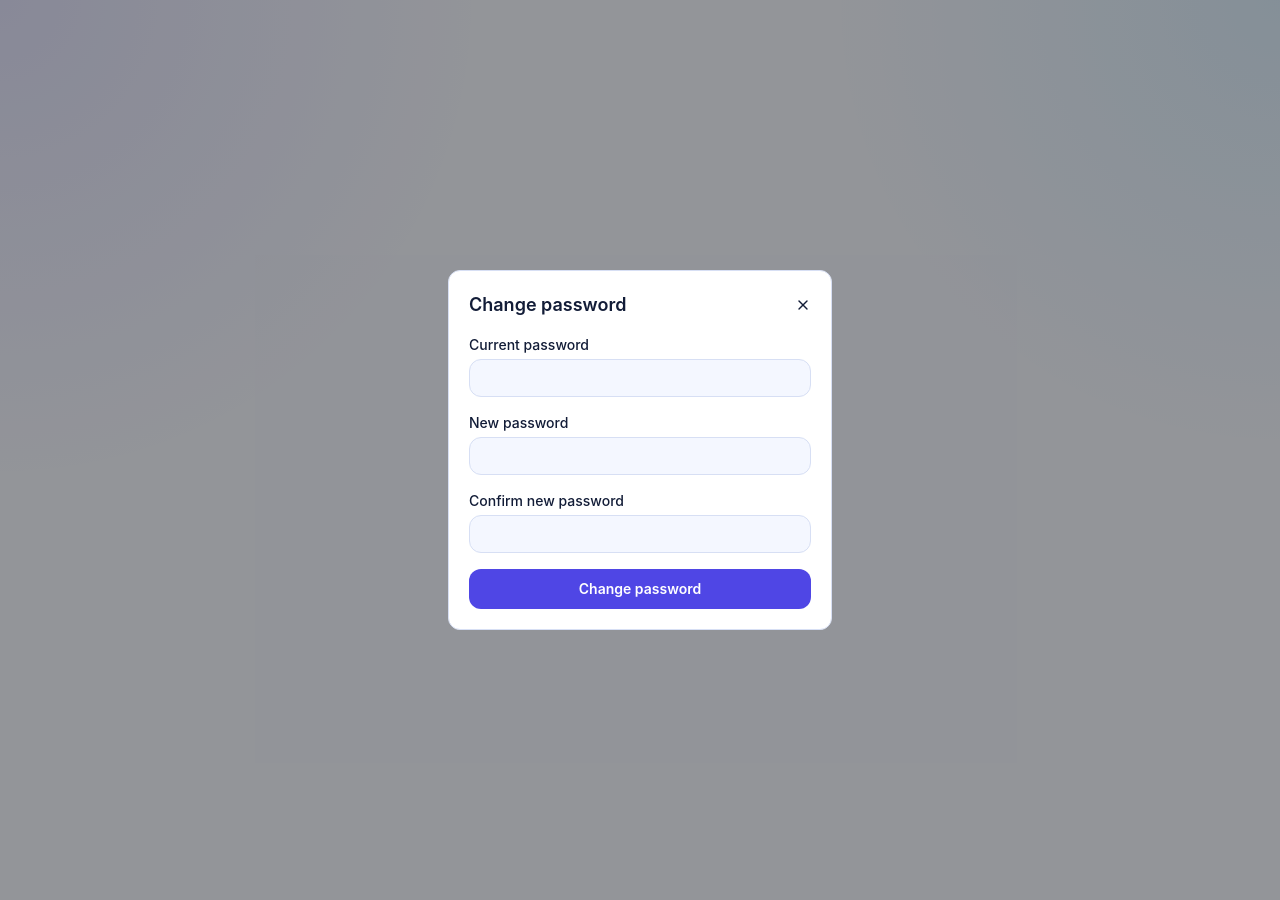
ChangePasswordModal › blocks submit when the new password is too weak
In the password field labelled "Current password": (640, 378) [469, 359, 811, 397], type "OldPass123"
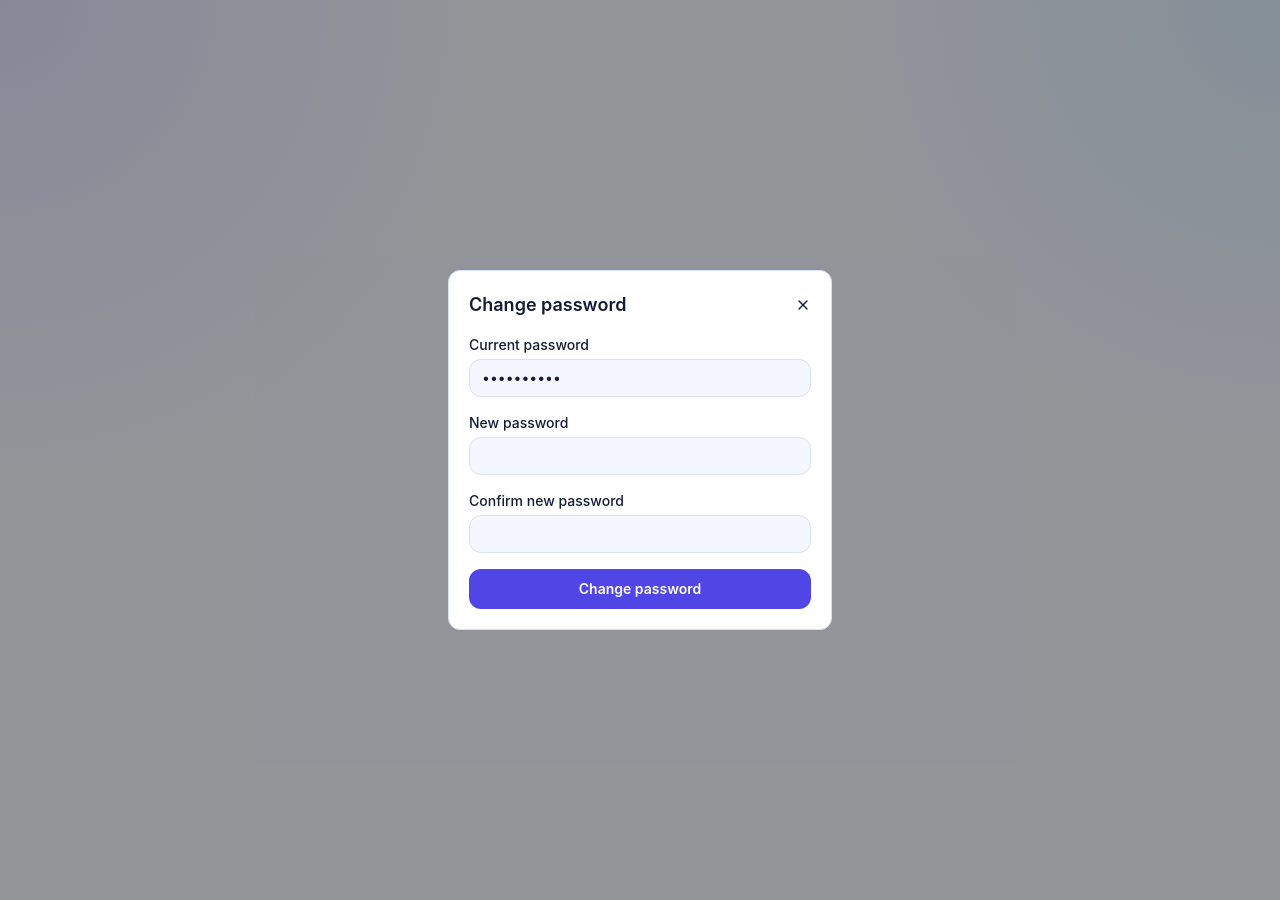
In the password field labelled "New password": (640, 456) [469, 437, 811, 475], type "weak"
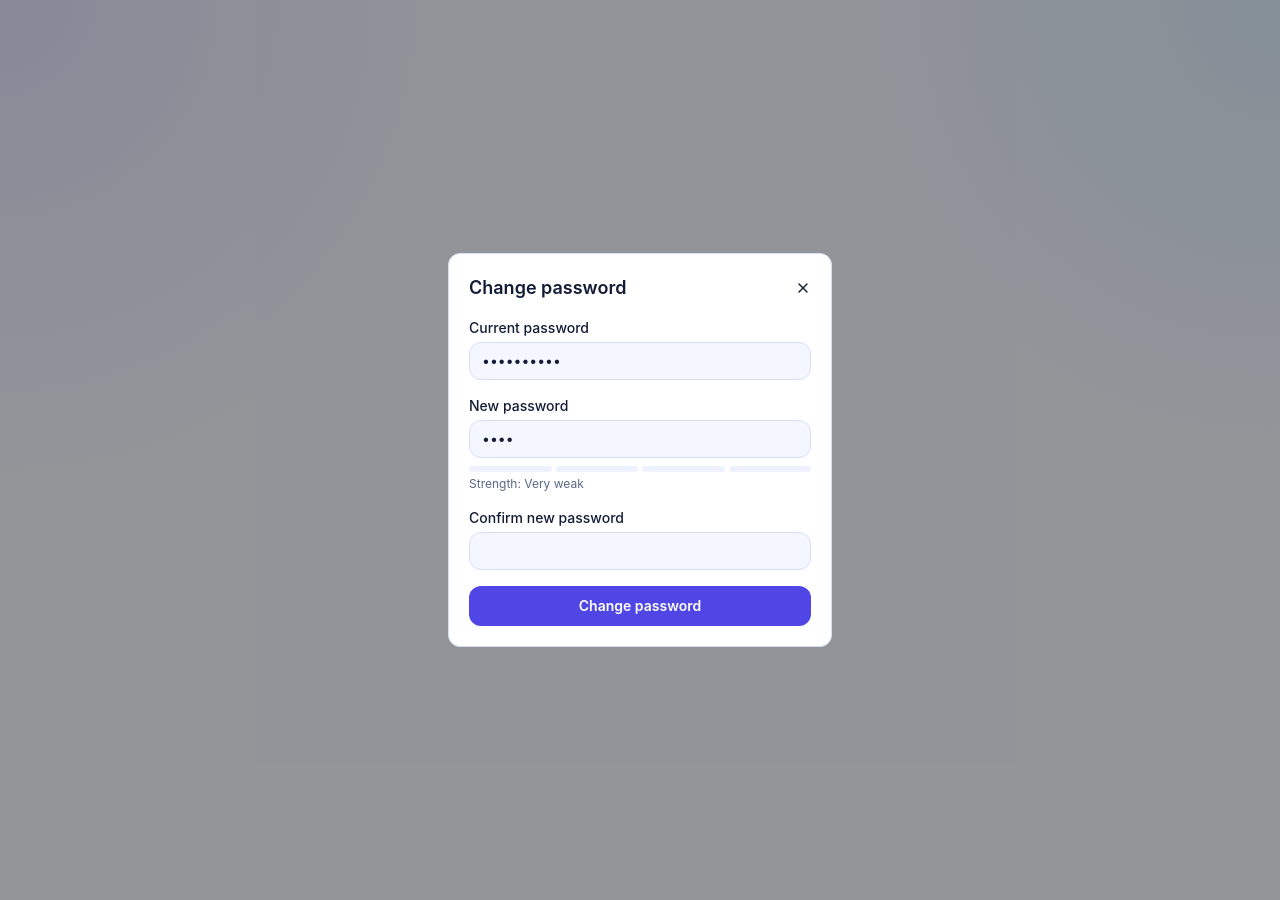
In the password field labelled "Confirm new password": (640, 551) [469, 532, 811, 570], type "weak"
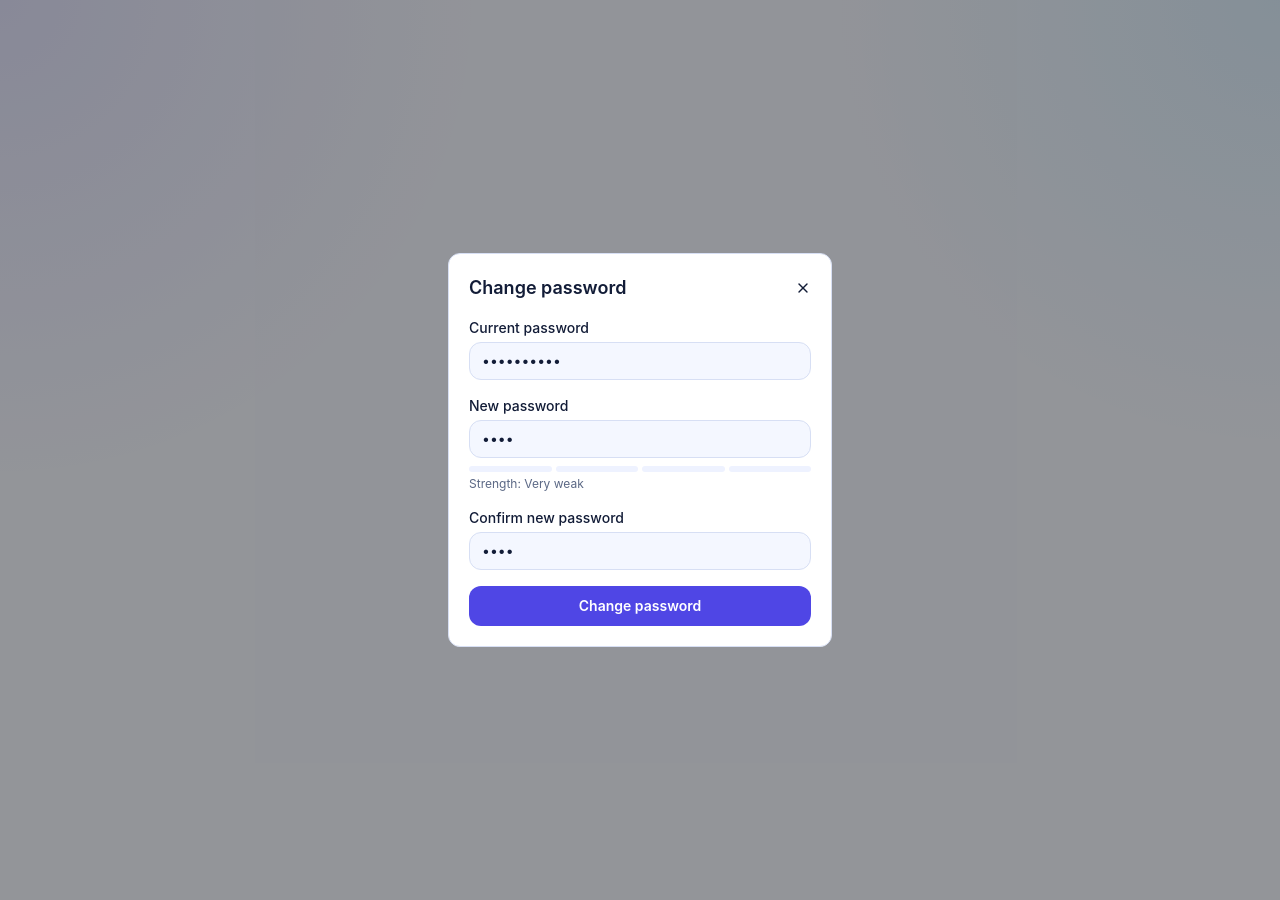
Click the button "Change password": (640, 606) [469, 586, 811, 626]
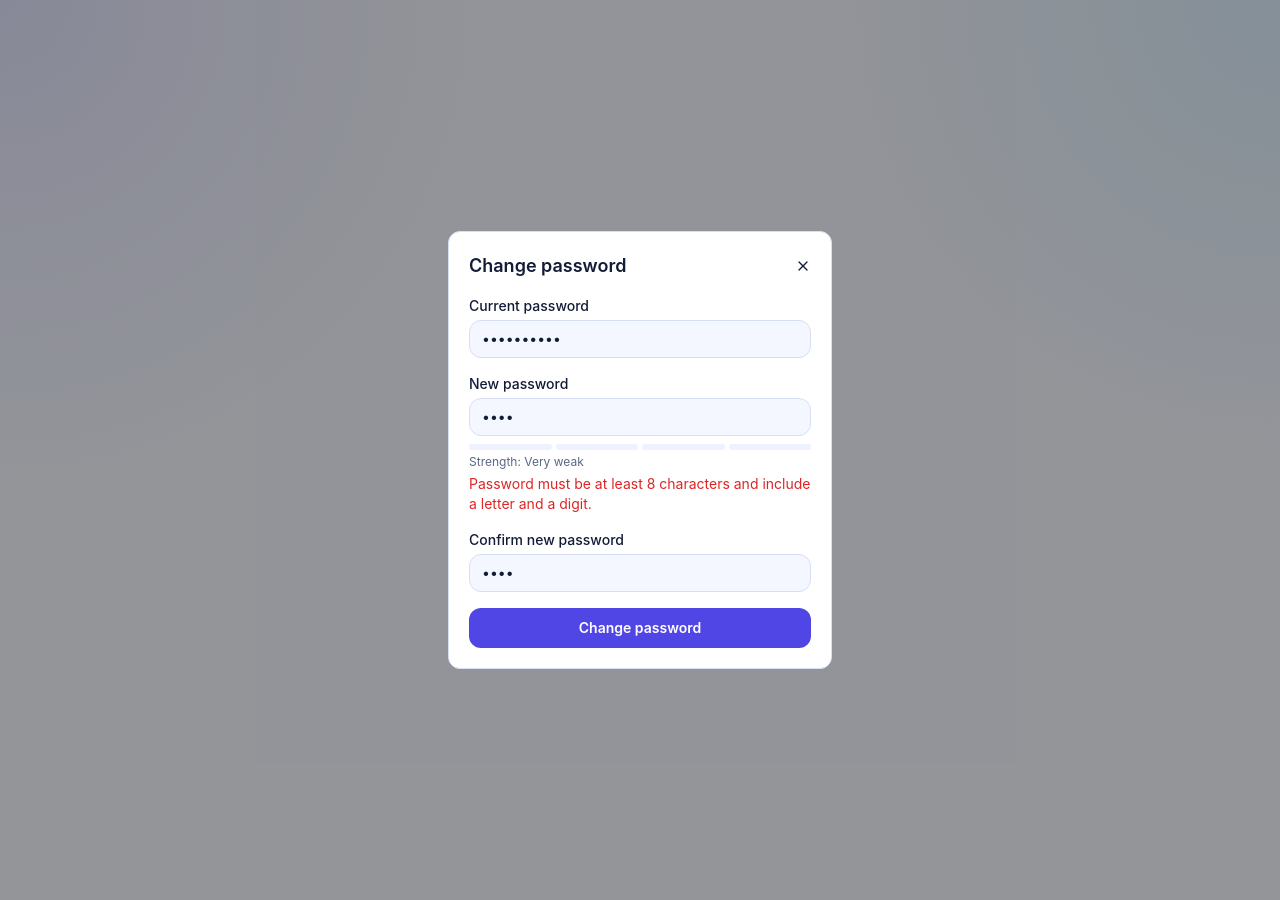
Now the text "must be at least 8 characters" is shown, box [469, 475, 810, 512]
